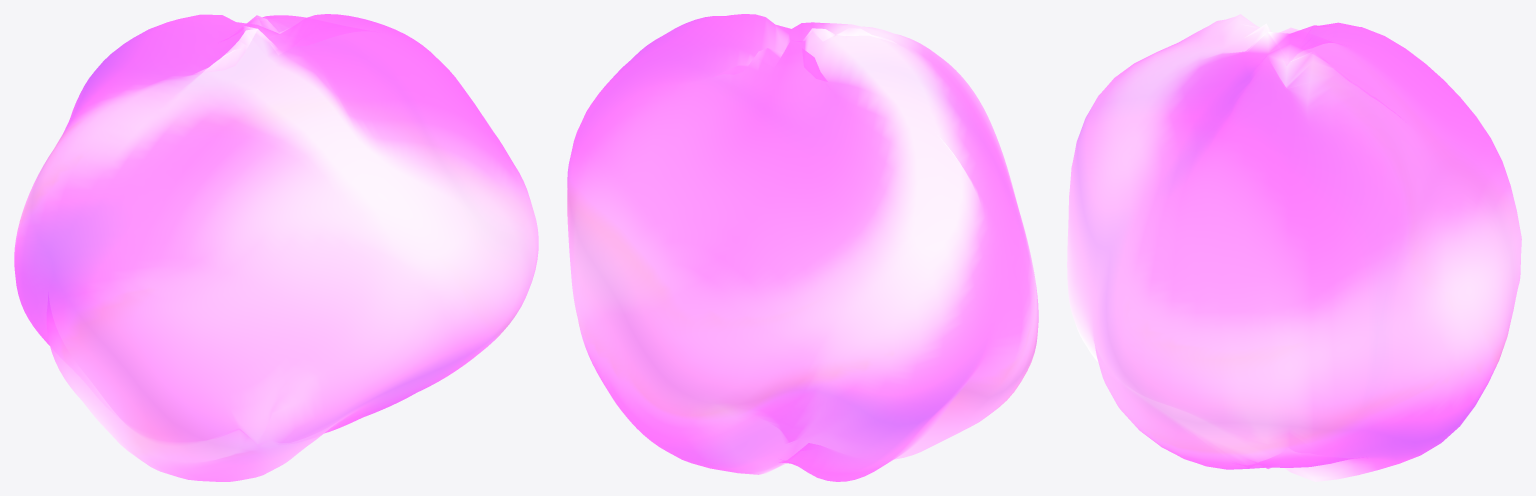
Rendered from imprint_gel_droplet_looped.glb.
3 renders of one model, left to right at view 1: azimuth 30°, elevation 25°; view 2: azimuth 150°, elevation 25°; view 3: azimuth 270°, elevation 25°, orthographic.
Visible parts, largest first — view 1: Imprint_Gel_Droplet; view 2: Imprint_Gel_Droplet; view 3: Imprint_Gel_Droplet.
Boxes of the visible parts, bbox=[...] form: Imprint_Gel_Droplet: bbox=[14, 14, 538, 481]; Imprint_Gel_Droplet: bbox=[567, 14, 1038, 481]; Imprint_Gel_Droplet: bbox=[1067, 14, 1521, 481].
Size of the model in its own units: 2.33 by 2.19 by 2.05.
